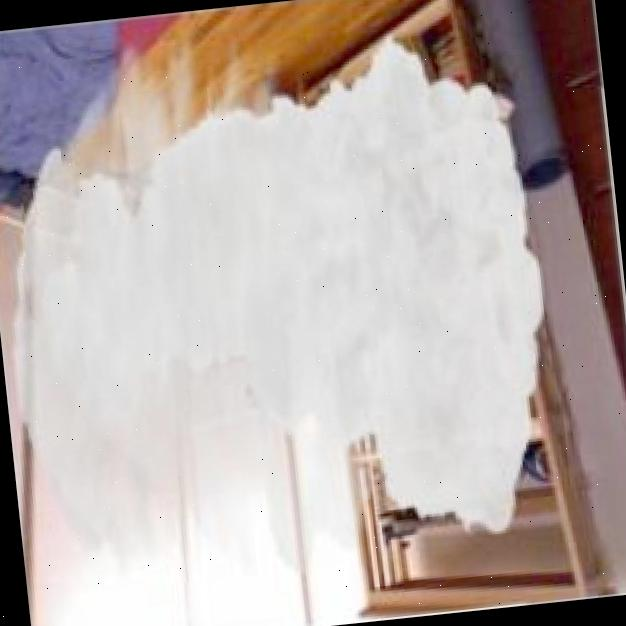smoke: (0, 0, 571, 602)
